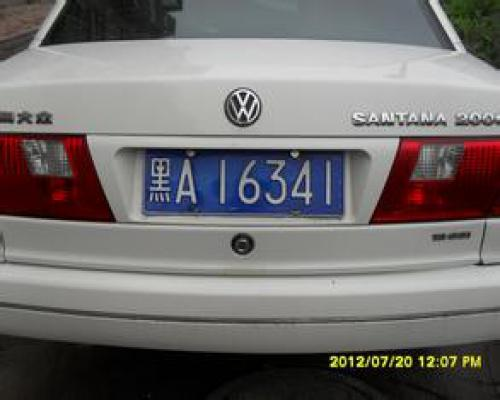Carplate: (137, 138, 353, 224)
